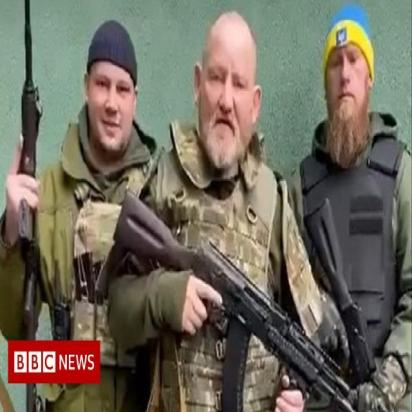Gun: (112, 188, 363, 412)
